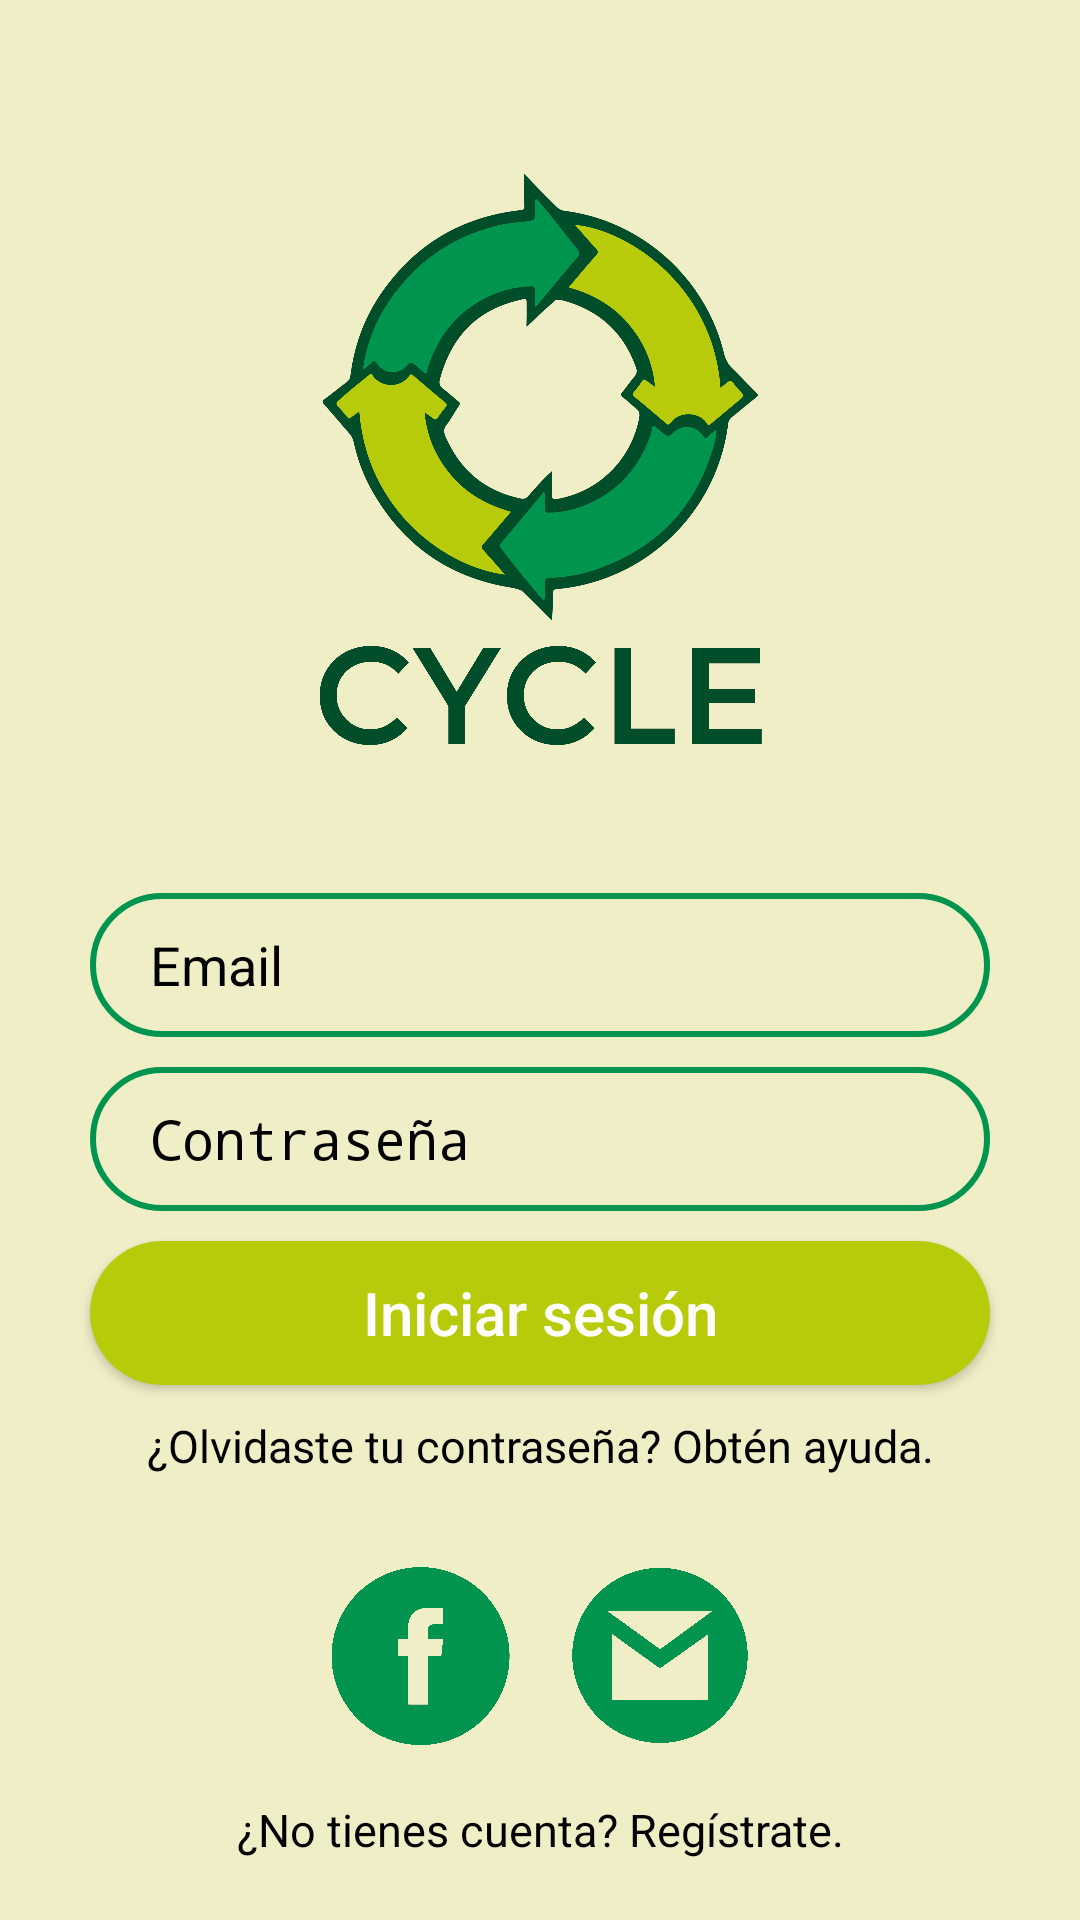

Named icons in this screenshot (1080x1920) and their centers, (x,y):
gmail: (660,1655)
